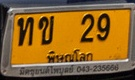txt02: (37, 15, 56, 46)
txt18: (16, 16, 34, 47)
